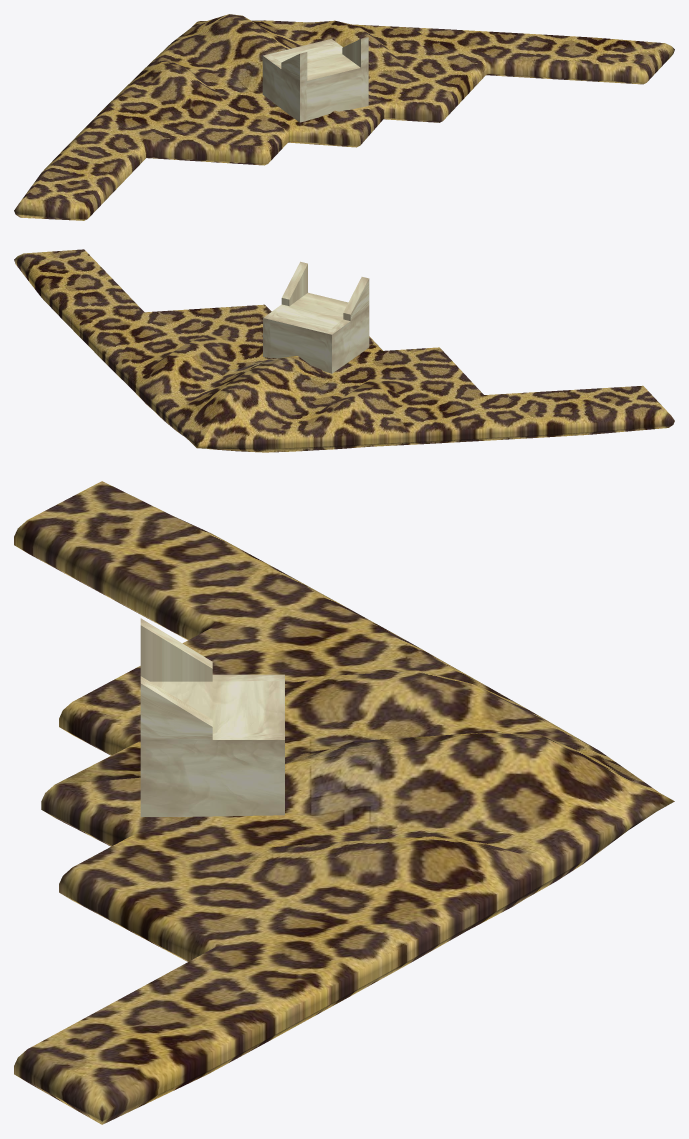
3 renders of one model, top to bottom at view 1: azimuth 30°, elevation 25°; view 2: azimuth 150°, elevation 25°; view 3: azimuth 270°, elevation 25°, orthographic. The views are drawn at different scales.
Parts seen in each view (by area): view 1: B2, Box01; view 2: B2, Box01; view 3: B2, Box01.
Part boxes in pixels (left/top/right/bottom): B2: left=14, top=14, right=674, bottom=220; Box01: left=262, top=37, right=368, bottom=122; B2: left=14, top=249, right=674, bottom=452; Box01: left=263, top=261, right=369, bottom=373; B2: left=14, top=481, right=674, bottom=1124; Box01: left=140, top=618, right=284, bottom=816.
Bounding box in the file's own units: 237 × 31.8 × 106.
2 materials, 2 textured.
